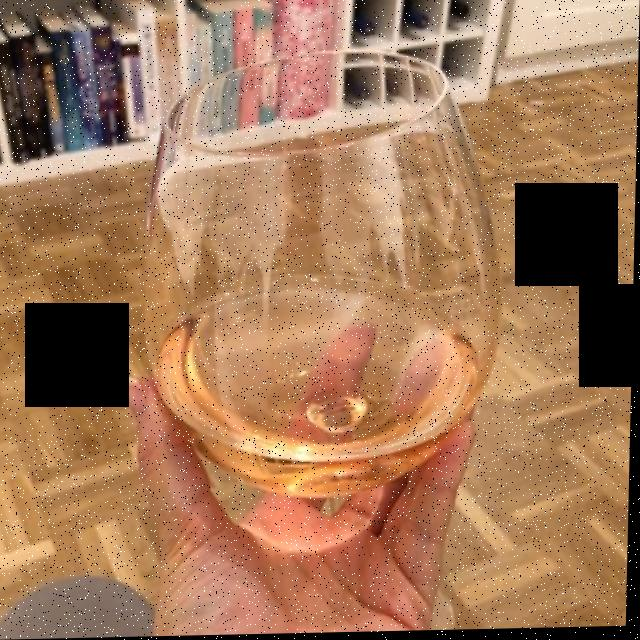wine-rose: (167, 270, 467, 500)
